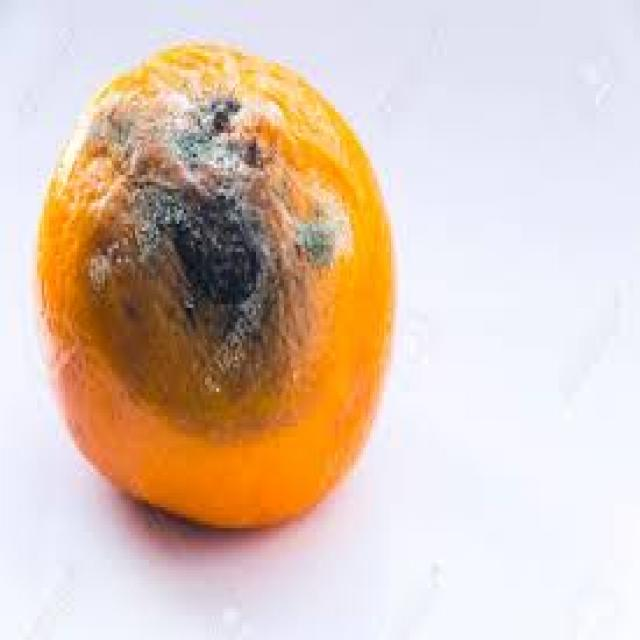organic waste: (30, 38, 396, 524)
